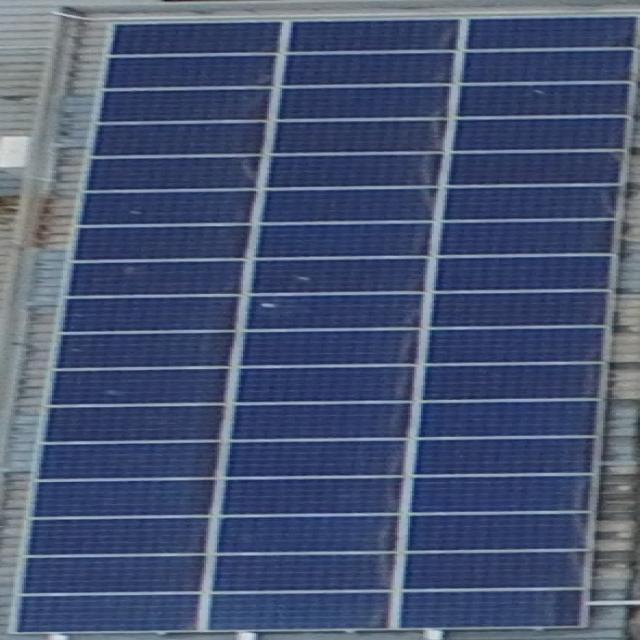Dust: (198, 54, 320, 193), (415, 94, 482, 203)
bird-droppings: (249, 298, 294, 312), (93, 385, 128, 402), (111, 206, 156, 218), (284, 274, 321, 288), (523, 84, 555, 97)
